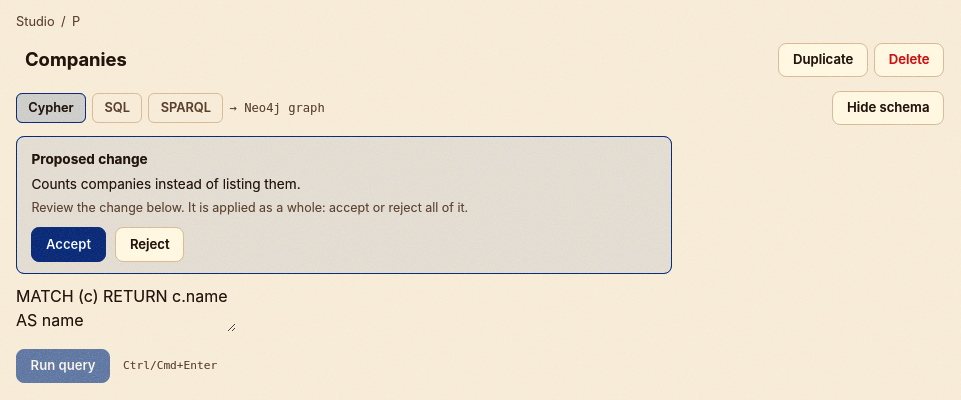
it: StudioQueryView — assistant proposals › a failed accept shows the error and keeps the proposal pending
Click the button with test id "query-proposal-accept". click: (69, 245)
box: [31, 227, 106, 262]
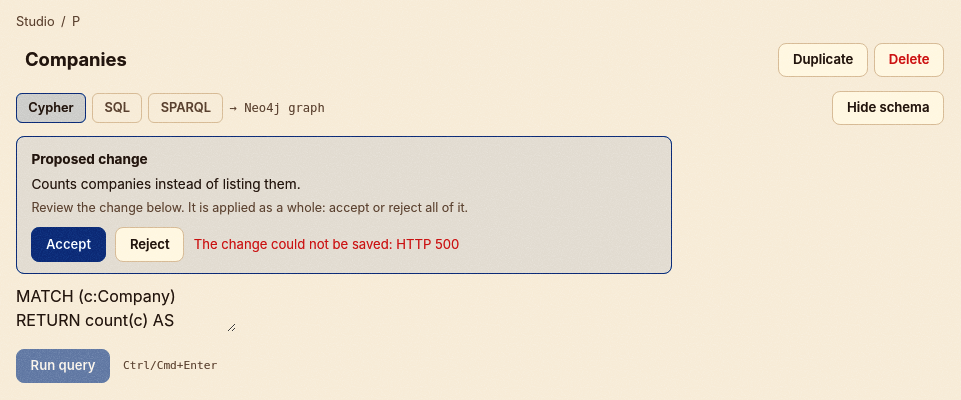
expect the element with test id "query-proposal" is shown: met, box [16, 136, 672, 274]
expect the text with test id "query-proposal-error" shows "HTTP 500": met, box [194, 236, 459, 252]
